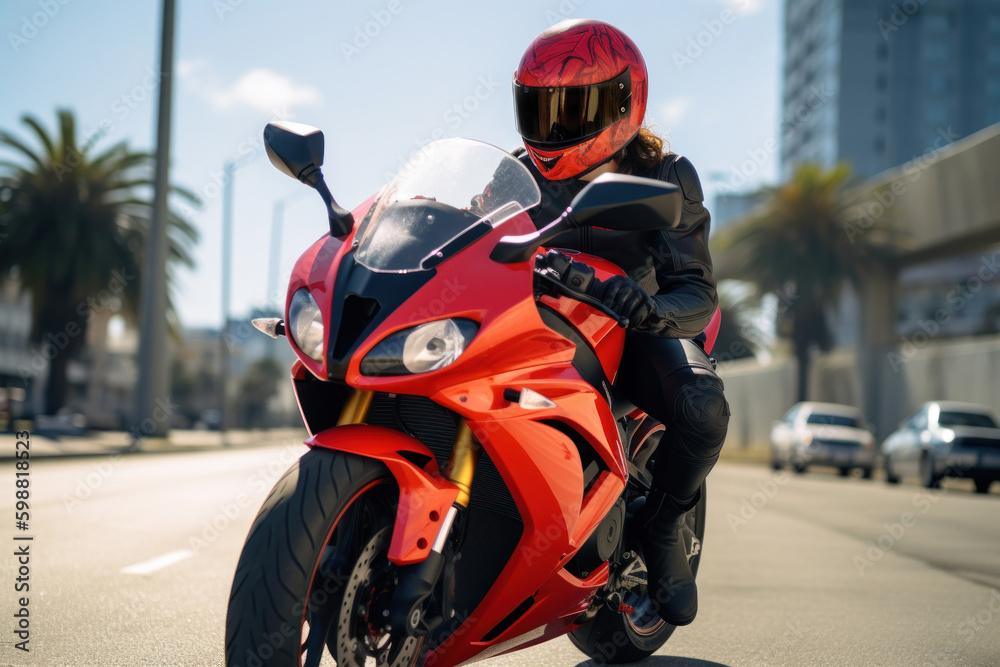helmet: (510, 17, 649, 186)
